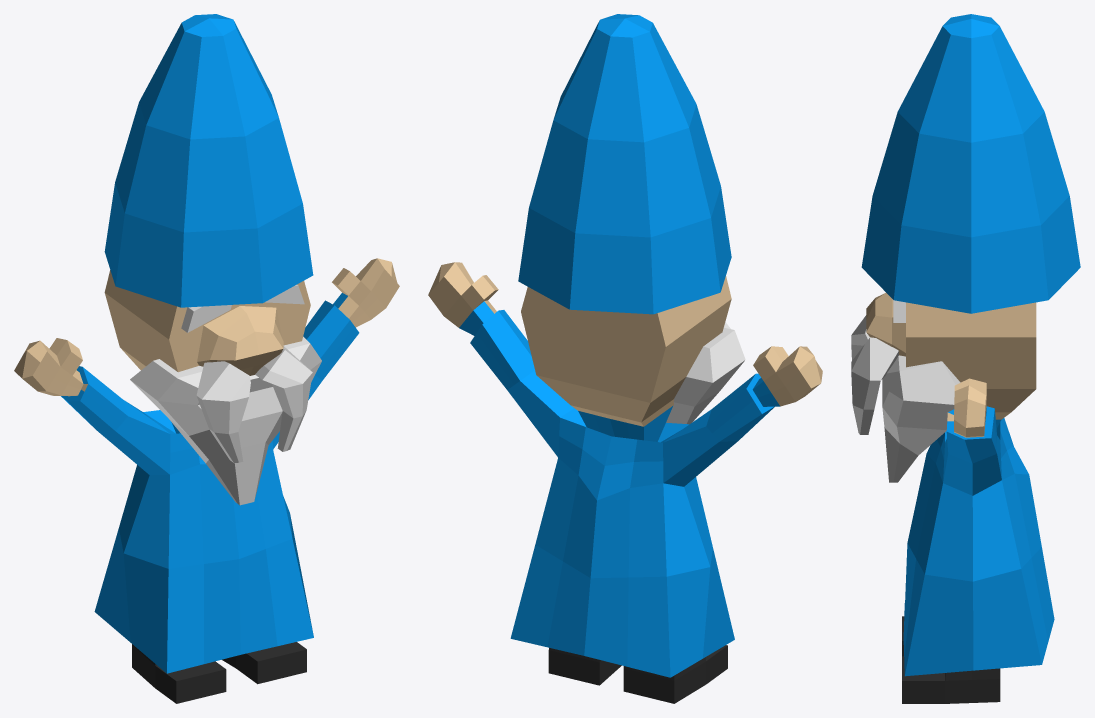
Rendered from mago.fbx.
3 renders of one model, left to right at view 1: azimuth 30°, elevation 25°; view 2: azimuth 150°, elevation 25°; view 3: azimuth 270°, elevation 25°, orthographic. The views are drawn at different scales.
Visible parts, largest first — view 1: Cube.001, Cube, Cube.002, Cube.003, Cube.004; view 2: Cube.001, Cube, Cube.002; view 3: Cube.001, Cube, Cube.002, Cube.003.
Boxes of the visible parts, x1,y1,x2,y2 form: Cube.001: (14, 258, 399, 703); Cube: (104, 14, 313, 307); Cube.002: (130, 336, 321, 505); Cube.003: (196, 346, 312, 462); Cube.004: (181, 284, 304, 332); Cube.001: (428, 262, 822, 703); Cube: (518, 14, 731, 314); Cube.002: (666, 327, 745, 424); Cube.001: (866, 293, 1054, 703); Cube: (861, 14, 1080, 313); Cube.002: (882, 355, 960, 482); Cube.003: (851, 315, 898, 434).
Bounding box in the file's own units: 417 × 682 × 217.
